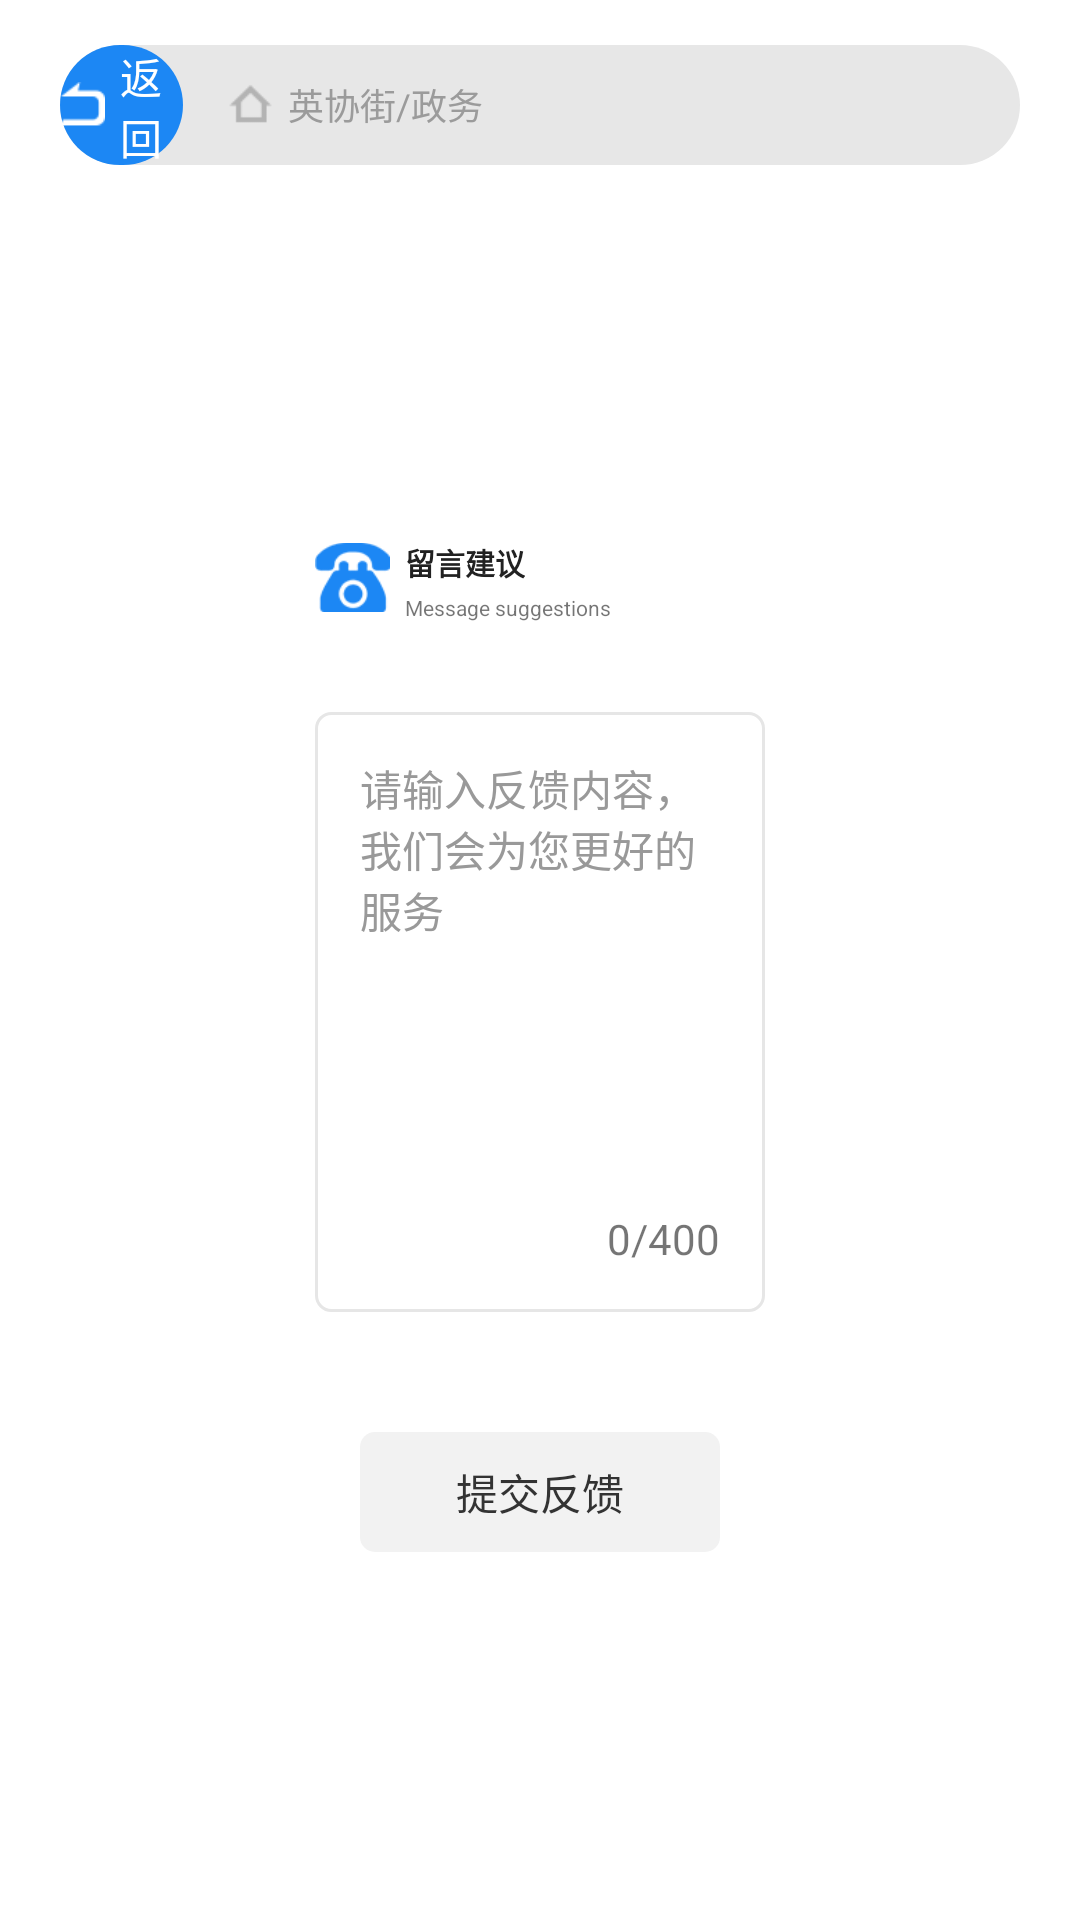

Where to tap for icons on this 1080px×1920px app screen, as (x,y):
crumb home: (250,104)
tel: (352,577)
